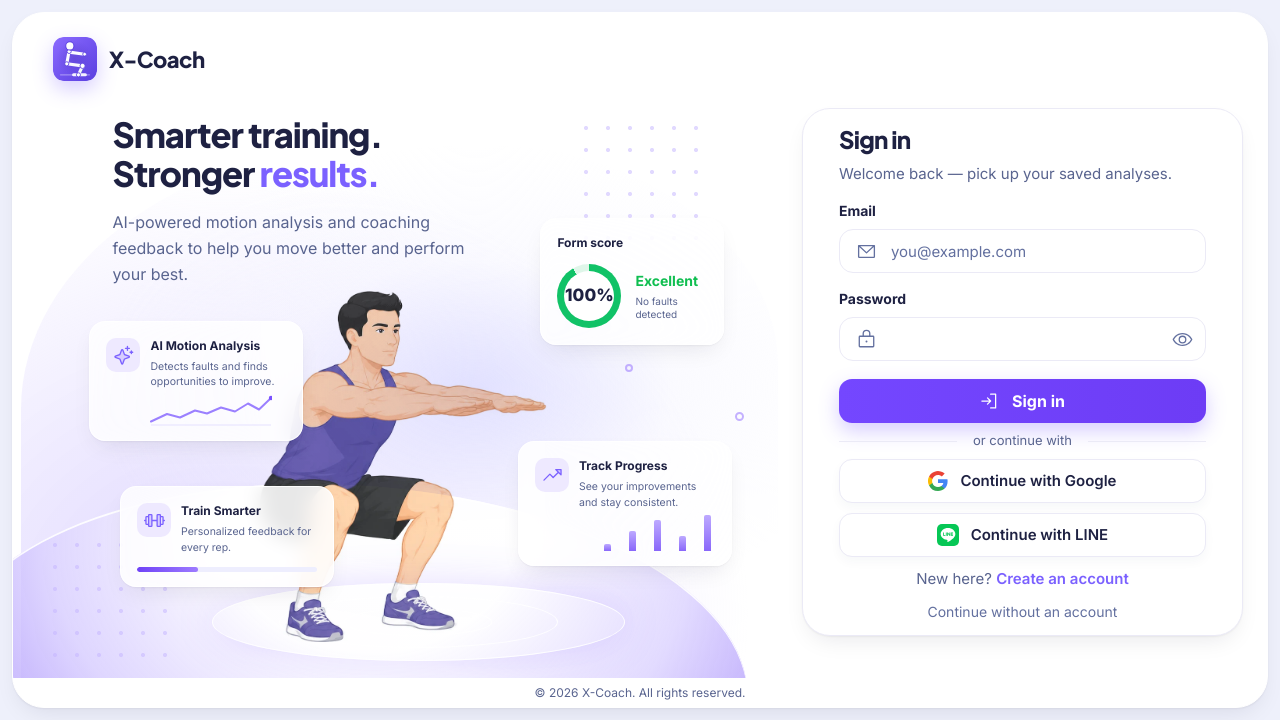
it: Login › toggles to the sign-up form
Click the button "Create an account".
click(1062, 579)  # box [996, 568, 1129, 591]
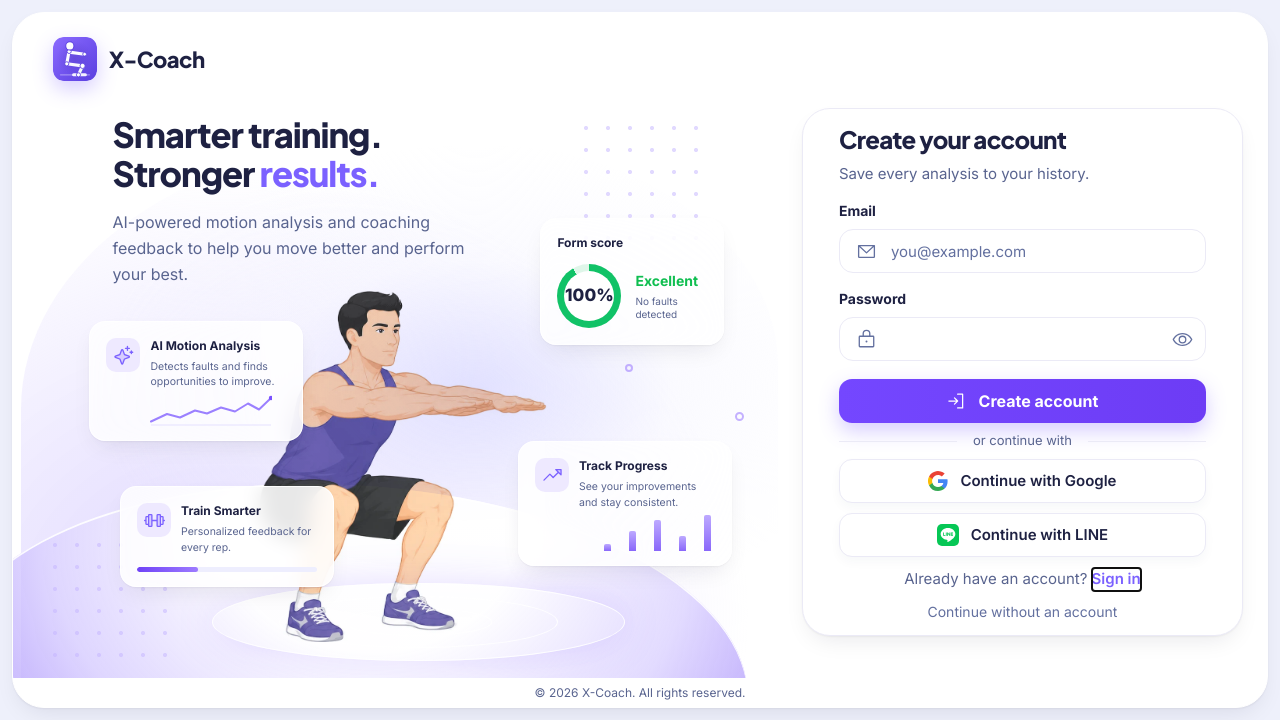
Result: the heading "Create your account" is shown at [839, 124, 1066, 154]
